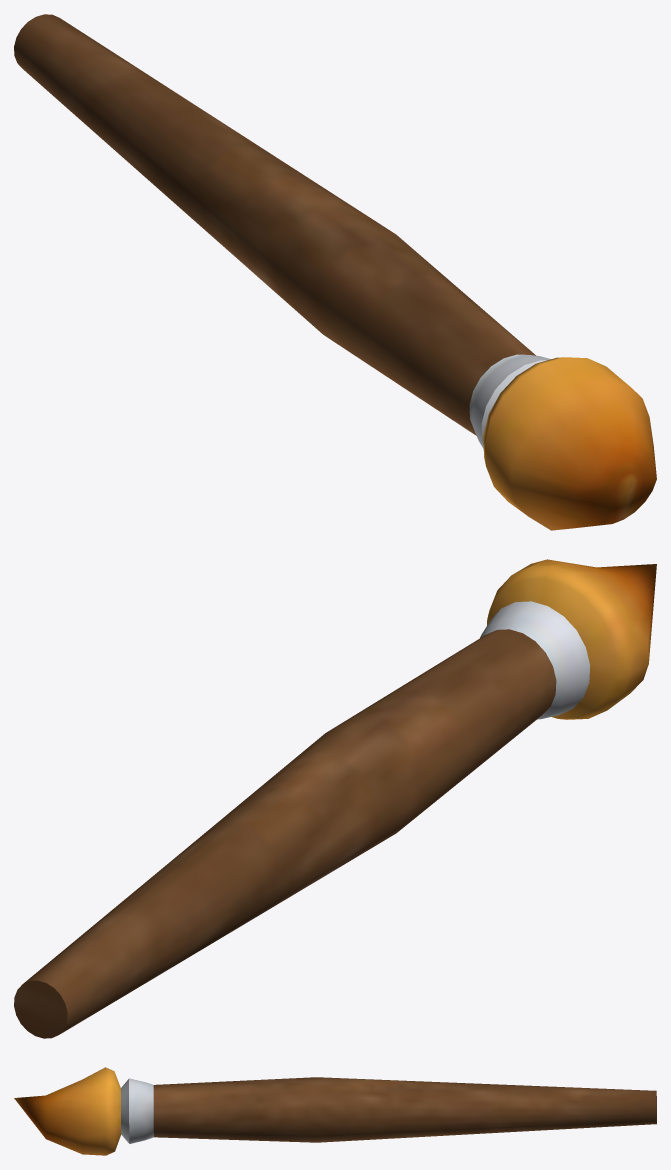
The model's file is s0_Prop_Brush_01_Art_01.glb.
The picture shows the model from 3 angles, top to bottom: view 1: azimuth 30°, elevation 25°; view 2: azimuth 150°, elevation 25°; view 3: azimuth 270°, elevation 25°; orthographic projection. The views are drawn at different scales.
Parts seen in each view (by area): view 1: node_Prop_Brush_01_Art; view 2: node_Prop_Brush_01_Art; view 3: node_Prop_Brush_01_Art.
Boxes of the visible parts, x1,y1,x2,y2 form: node_Prop_Brush_01_Art: [14, 14, 656, 530]; node_Prop_Brush_01_Art: [14, 559, 656, 1038]; node_Prop_Brush_01_Art: [14, 1067, 656, 1155].
Bounding box in the file's own units: 0.0303 × 0.0301 × 0.2176.
1 material, 1 textured.
